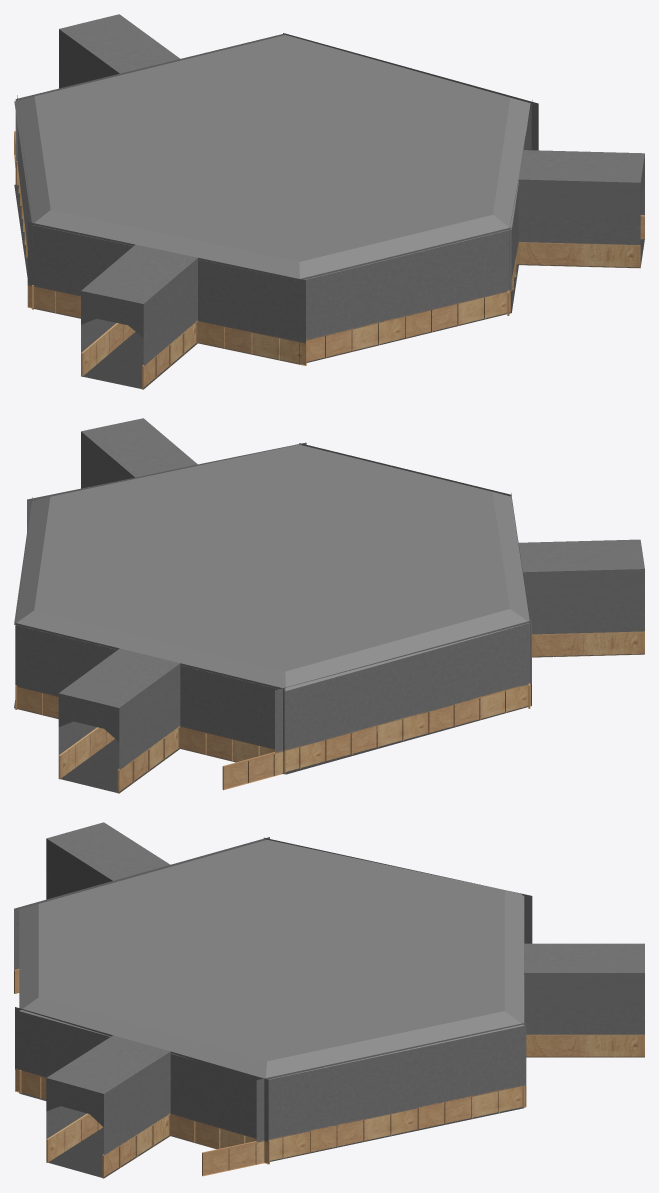
The model's file is InterimOctoroom.glb.
3 views of the same model, one above another, from view 1: azimuth 30°, elevation 25°; view 2: azimuth 150°, elevation 25°; view 3: azimuth 270°, elevation 25° (orthographic).
Visible parts, largest first — view 1: Cylinder.001, Plane.001, Hallway.002, Hallway.005, Hallway.004, Cylinder; view 2: Cylinder.001, Plane.001, Hallway.004, Hallway.005, Hallway.002, Cylinder; view 3: Cylinder.001, Plane.001, Hallway.002, Hallway.004, Hallway.005, Cylinder.
Boxes of the visible parts, x1=… form: Cylinder.001: x1=14, y1=35, x2=530, y2=279; Plane.001: x1=14, y1=33, x2=538, y2=365; Hallway.002: x1=518, y1=150, x2=644, y2=268; Hallway.005: x1=81, y1=244, x2=197, y2=389; Hallway.004: x1=59, y1=14, x2=180, y2=88; Cylinder: x1=14, y1=184, x2=518, y2=364; Cylinder.001: x1=14, y1=444, x2=529, y2=690; Plane.001: x1=15, y1=442, x2=531, y2=790; Hallway.004: x1=58, y1=648, x2=180, y2=793; Hallway.005: x1=518, y1=539, x2=644, y2=657; Hallway.002: x1=81, y1=418, x2=197, y2=488; Cylinder: x1=14, y1=700, x2=528, y2=774; Cylinder.001: x1=19, y1=840, x2=524, y2=1079; Plane.001: x1=14, y1=837, x2=532, y2=1176; Hallway.002: x1=46, y1=1035, x2=170, y2=1178; Hallway.004: x1=524, y1=943, x2=644, y2=1057; Hallway.005: x1=46, y1=822, x2=170, y2=899; Cylinder: x1=19, y1=1092, x2=524, y2=1162.
Size of the model in its own units: 37.26 by 5.91 by 36.55.
39 materials, 38 textured.
